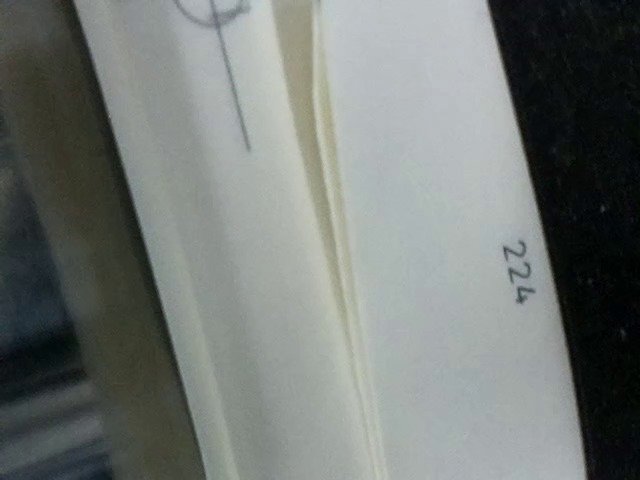not_sure: (166, 1, 258, 32)
